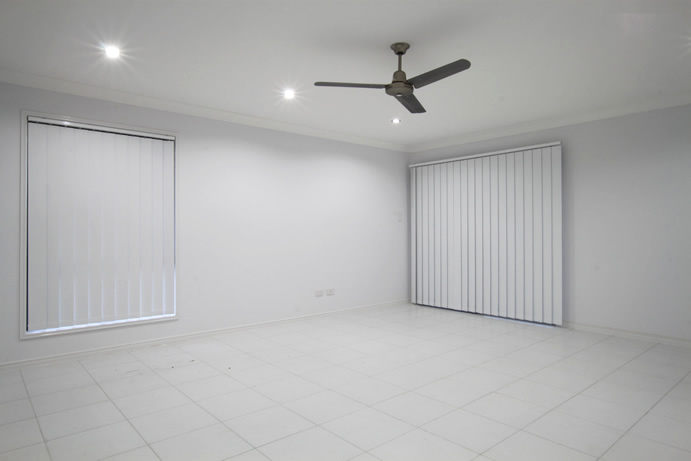ceiling fan: (306, 39, 474, 123)
